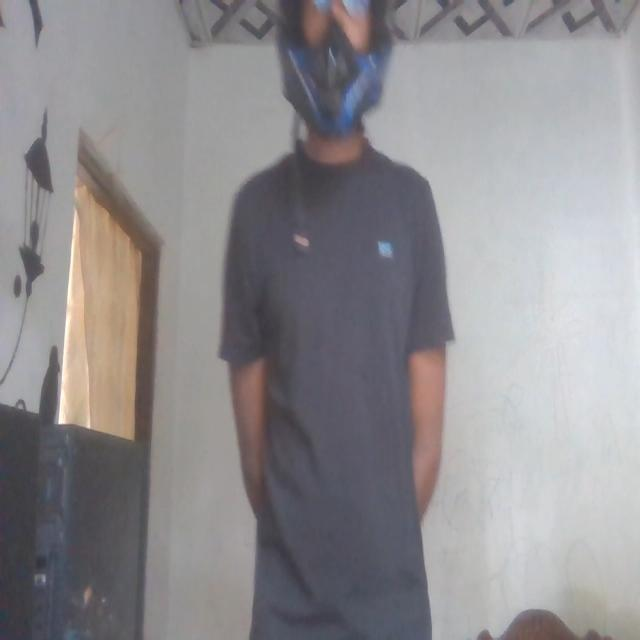Helmet_Wearer: (278, 0, 408, 161)
Person: (215, 0, 467, 635)
